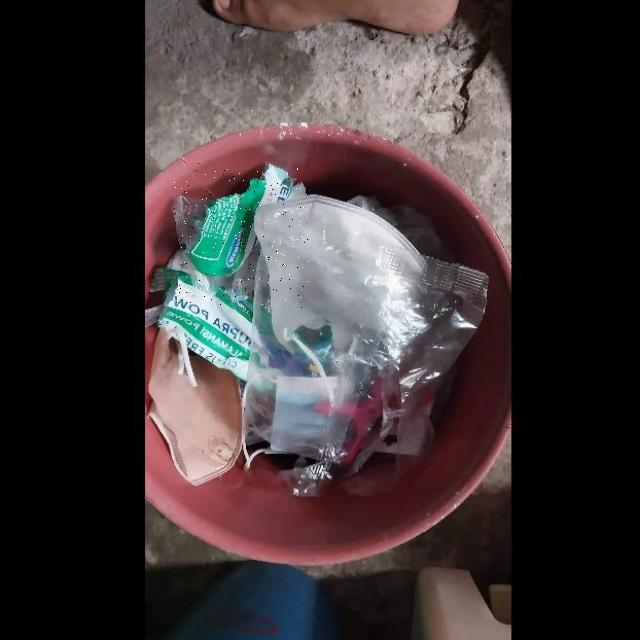wrapper: (174, 163, 309, 308)
